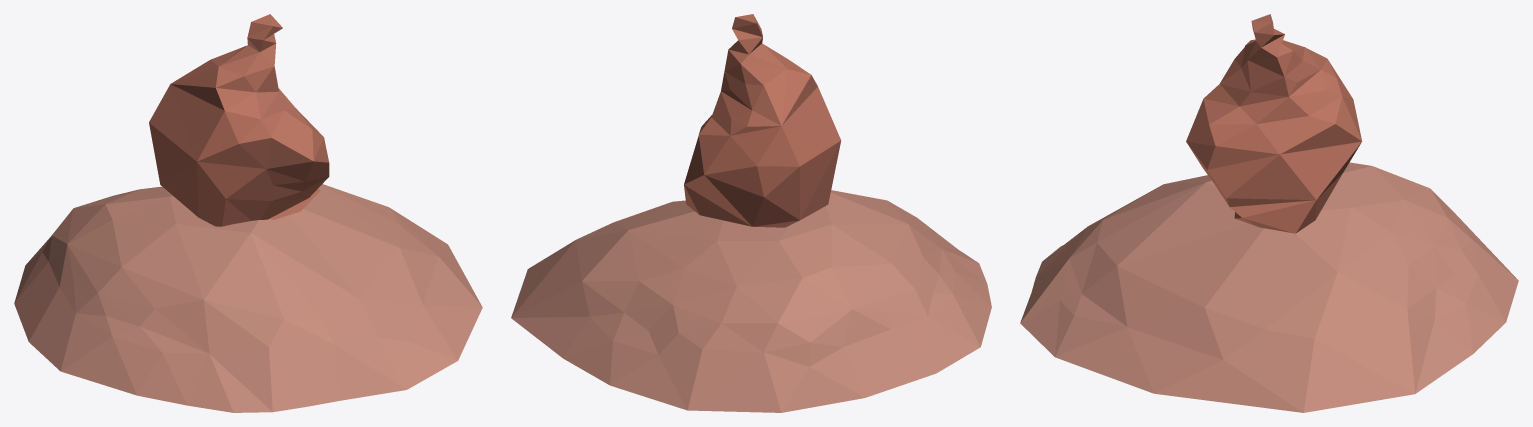
Rendered from rock_014.fbx.
The picture shows the model from 3 angles, left to right: view 1: azimuth 30°, elevation 25°; view 2: azimuth 150°, elevation 25°; view 3: azimuth 270°, elevation 25°; orthographic projection. The views are drawn at different scales.
Visible parts, largest first — view 1: rock_014; view 2: rock_014; view 3: rock_014.
Boxes of the visible parts, x1,y1,x2,y2 form: rock_014: (14,14,482,412); rock_014: (511,14,991,412); rock_014: (1020,14,1518,412).
Size of the model in its own units: 1078 by 1082 by 706.
